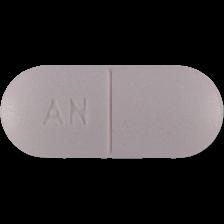33261-724: (0, 0, 224, 224)
